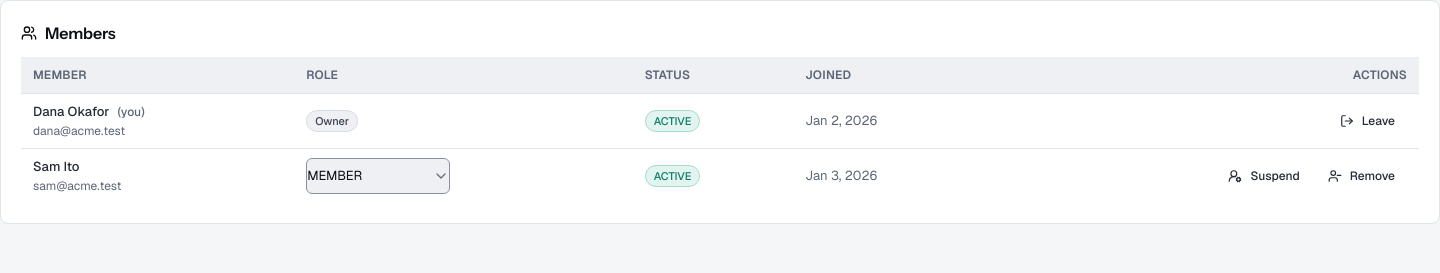
Test: writes › surfaces the server's refusal instead of hiding it
The image size is (1440, 273).
Expected: the text "dana@acme.test" is shown, x1=33 y1=122 x2=125 y2=138
Step 1. Click the button "Suspend" → point(1264, 176), box x1=1216 y1=160 x2=1312 y2=192
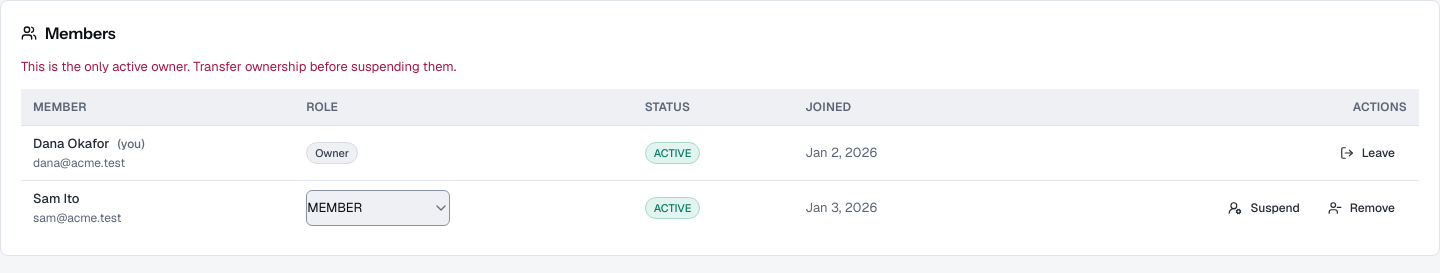
Expected: the text "This is the only active owner. Transfer ownership before suspending them." is shown, x1=21 y1=58 x2=456 y2=75
